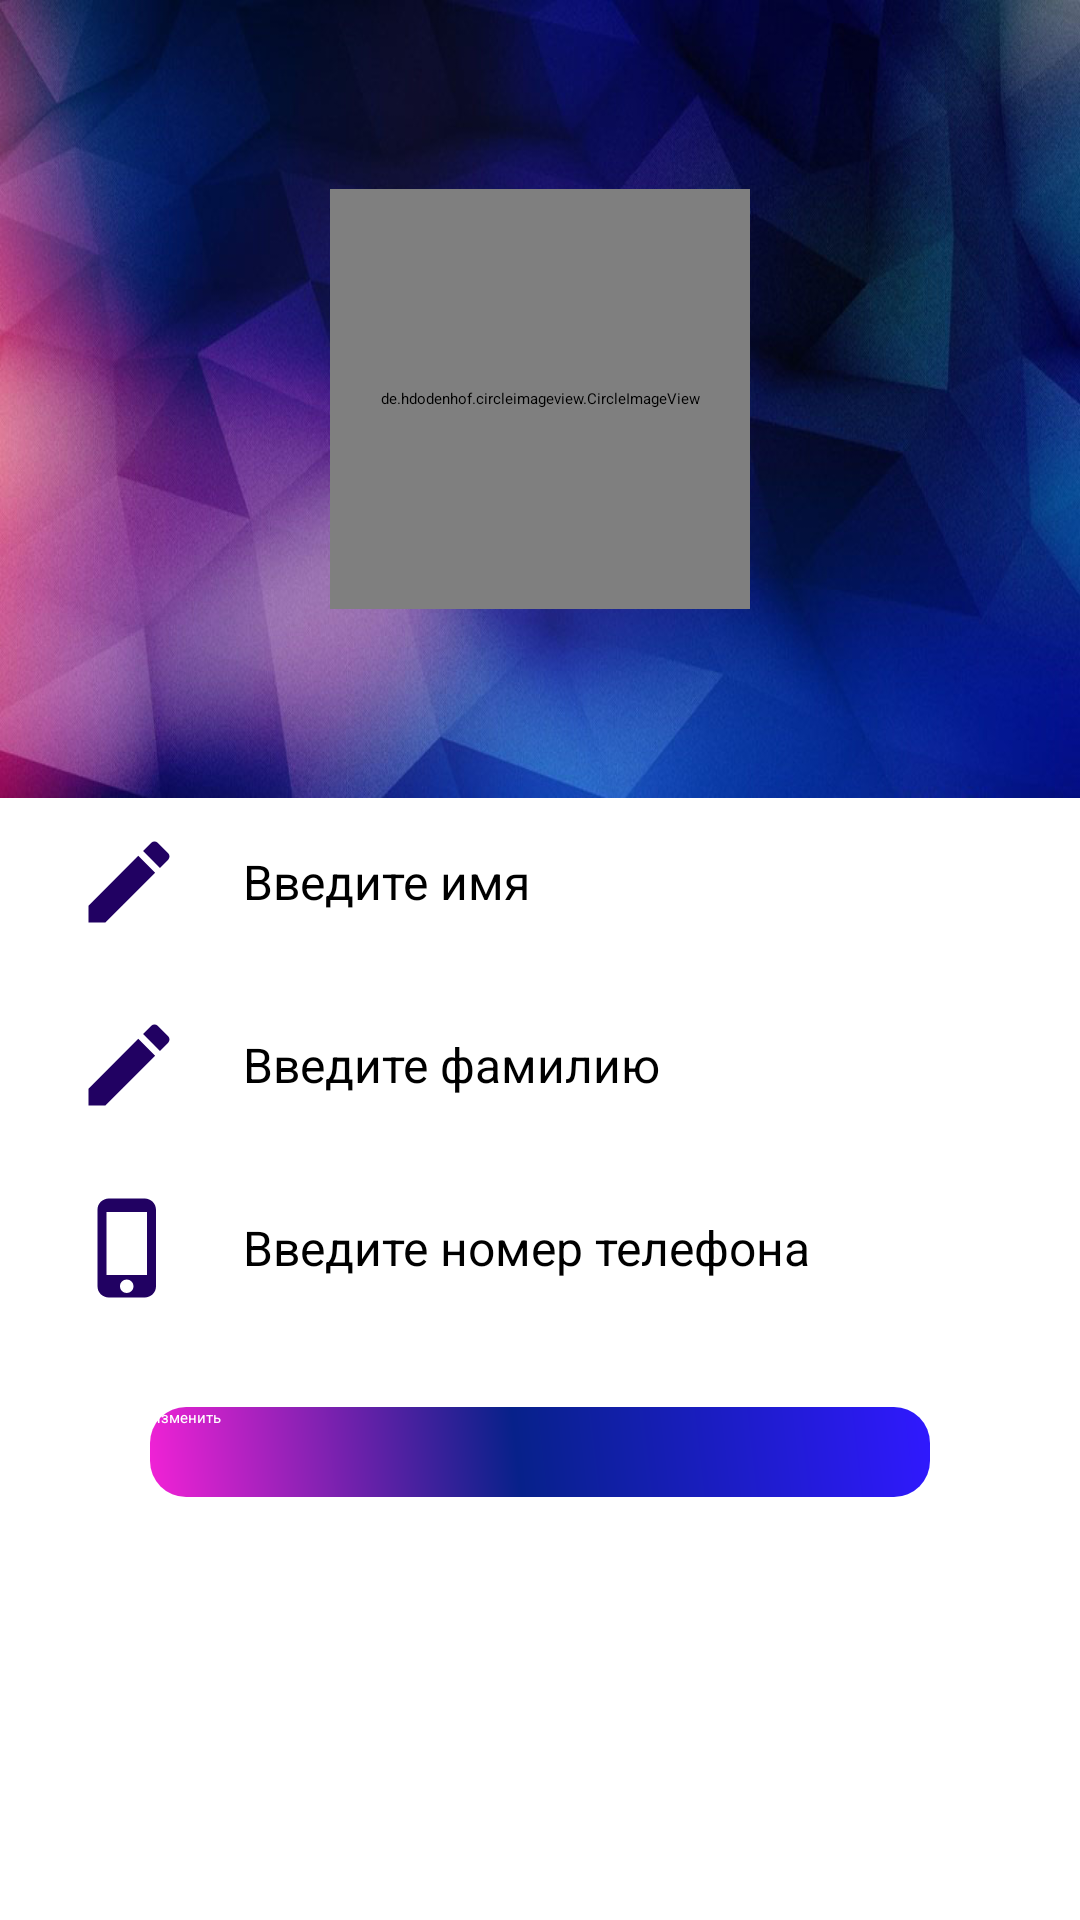

Icons on this 1080×1920 Android screen, each with the point to tap as [x,y]:
edit: [129,882], [129,1065]
phone: [126,1248]
